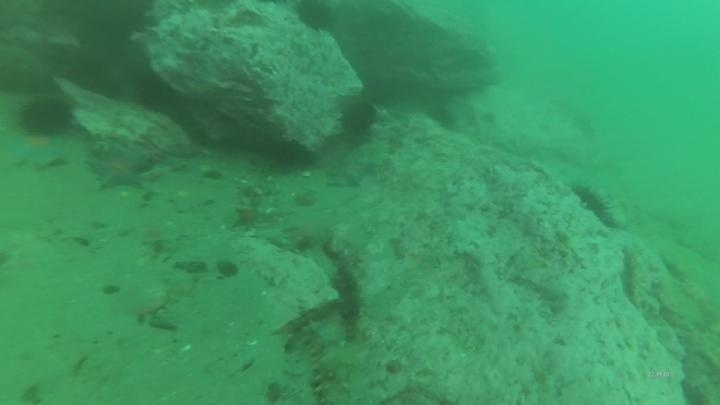echinus: (17, 93, 76, 139), (569, 180, 622, 231), (131, 69, 177, 114), (267, 136, 315, 173), (337, 97, 379, 138), (292, 1, 337, 34)
holothurian: (300, 320, 351, 405)
starfish: (85, 142, 152, 193), (3, 130, 72, 173), (322, 154, 377, 190), (230, 202, 264, 231)
